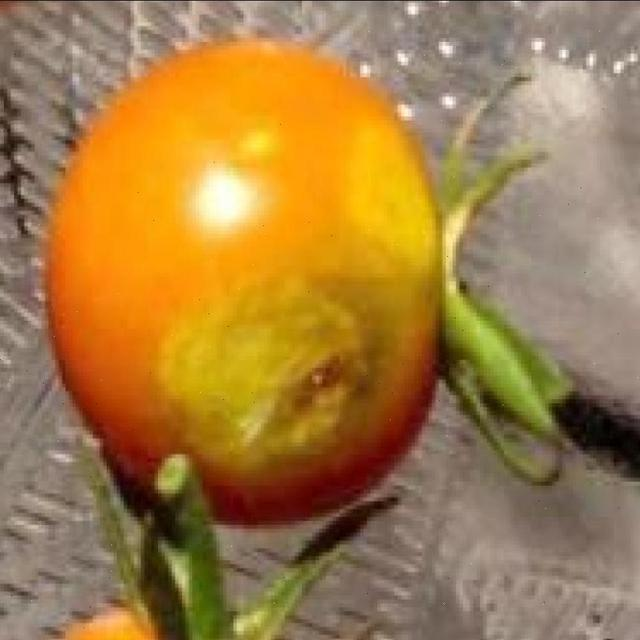Sunscald Fruit: (68, 105, 260, 250)
